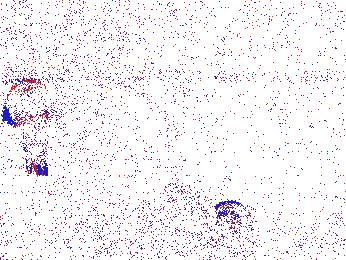flame jellyfish: (4, 81, 58, 175), (54, 199, 113, 254), (207, 202, 253, 251)
